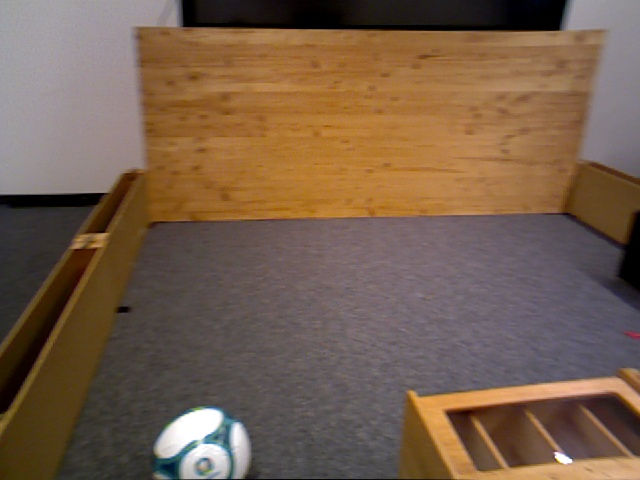kick: (152, 407, 253, 480)
push: (617, 211, 640, 296)
